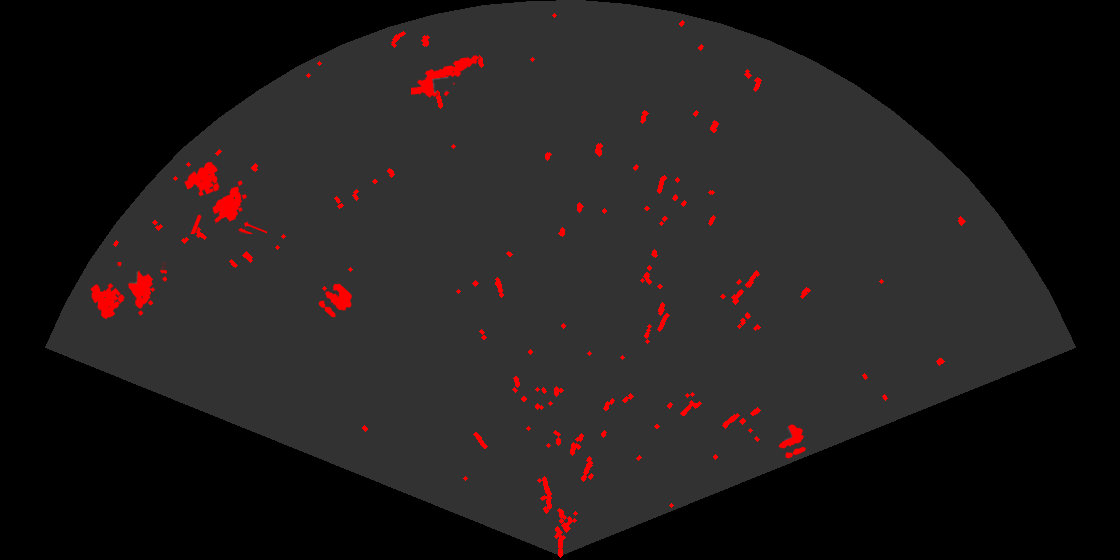ball: (317, 282, 354, 319), (777, 423, 808, 460)
cage: (183, 160, 267, 234), (89, 262, 167, 321)
frogman: (411, 54, 481, 99)
